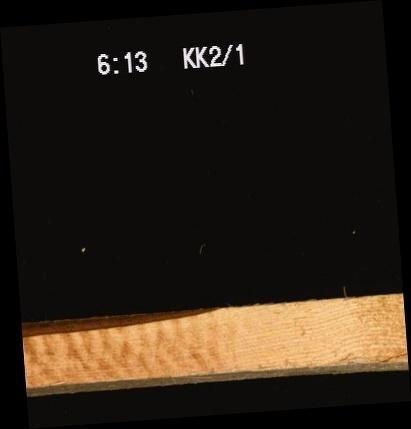wave: (26, 363, 408, 391), (21, 313, 226, 330)
